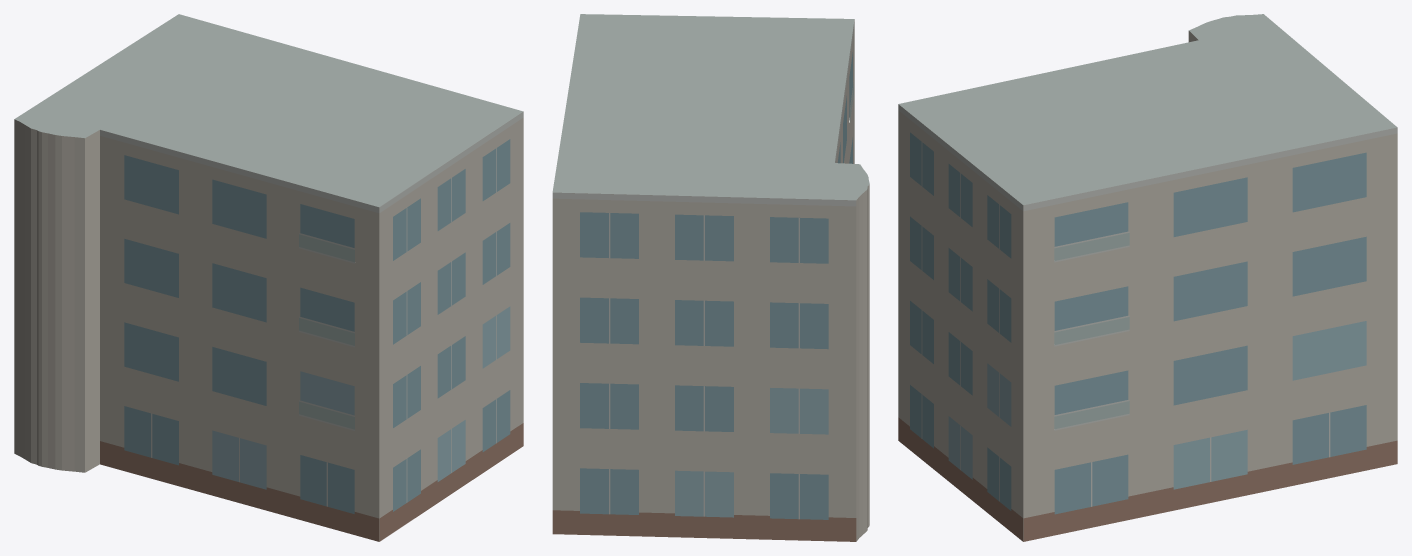
Rendered from survey-upis-32834930.glb.
3 renders of one model, left to right at view 1: azimuth 30°, elevation 25°; view 2: azimuth 150°, elevation 25°; view 3: azimuth 270°, elevation 25°, orthographic. The views are drawn at different scales.
Visible parts, largest first — view 1: survey-upis-32834930.tmp; view 2: survey-upis-32834930.tmp; view 3: survey-upis-32834930.tmp.
Boxes of the visible parts, x1,y1,x2,y2 form: survey-upis-32834930.tmp: (14,14,523,541); survey-upis-32834930.tmp: (552,14,869,541); survey-upis-32834930.tmp: (898,14,1397,541).
Bounding box in the file's own units: 16.66 × 13.66 × 18.38.
